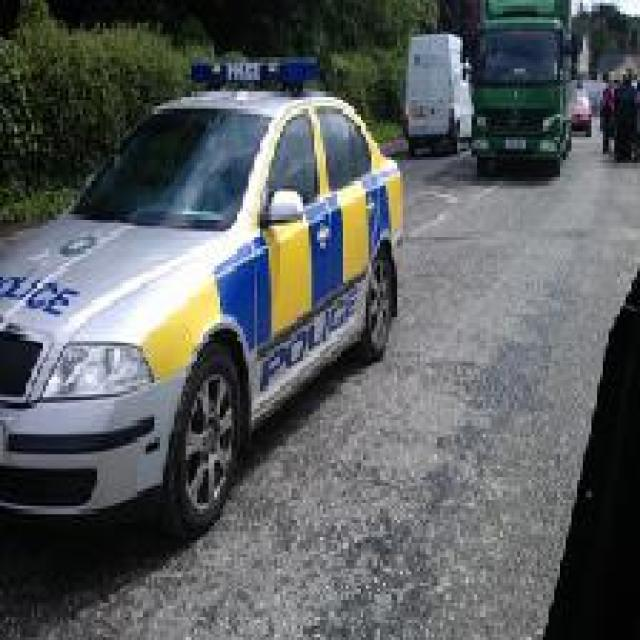Police-car: (0, 51, 406, 540)
Truck: (463, 0, 577, 177)
